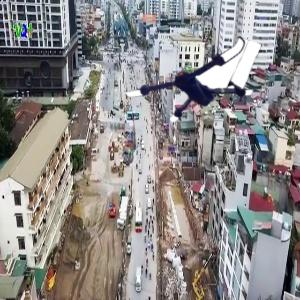drone: (129, 22, 253, 146)
